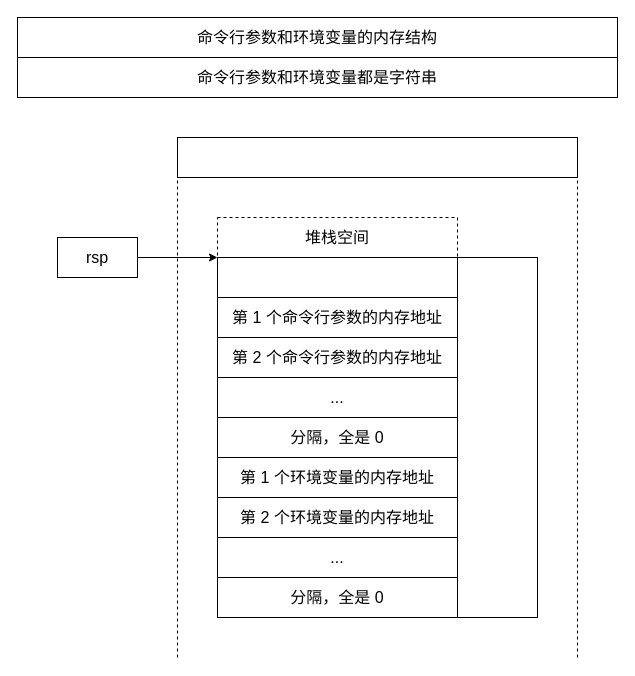
The diagram is 635 pixels wide and 676 high, and some of its shapes have lost their labels. Here are the shapes that lost their labels. From the top down, the centre of each, then its label:
At pixel 377 157: "内存空间".
At pixel 337 277: "命令行参数个数".
At pixel 497 437: "每个都是 8 字节".
